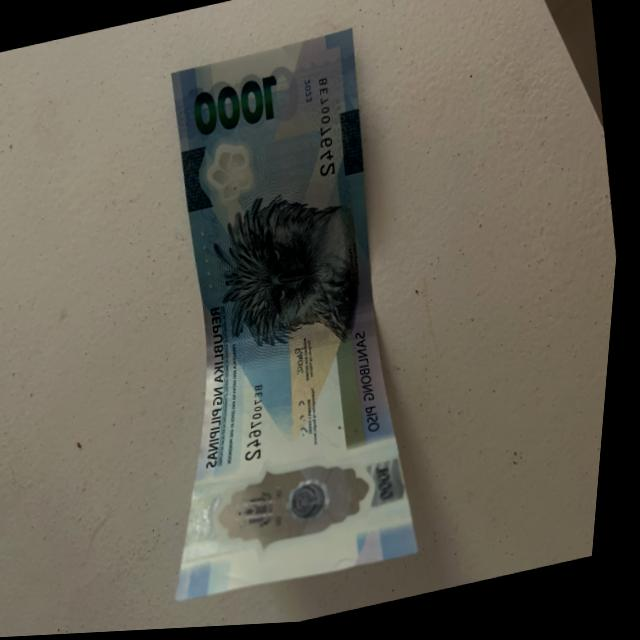clear_window: (167, 428, 433, 585)
eagle: (201, 183, 384, 369)
sampaguita: (198, 131, 281, 215)
security_thread: (210, 314, 387, 382)
serial_number: (303, 66, 352, 186), (239, 376, 288, 471)
value: (183, 66, 289, 144)
